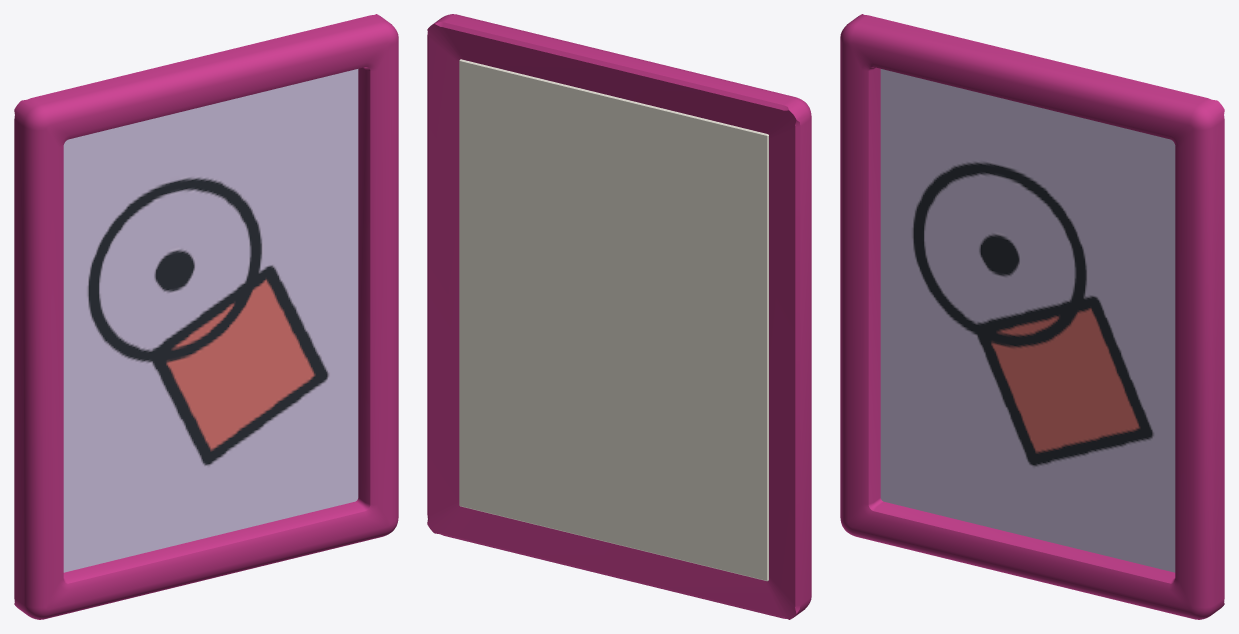
File: quadro_formas_contorno.glb
The picture shows the model from 3 angles, left to right: view 1: azimuth 30°, elevation 25°; view 2: azimuth 150°, elevation 25°; view 3: azimuth 330°, elevation 25°; orthographic projection.
Parts seen in each view (by area): view 1: quadro_formas_contorno; view 2: quadro_formas_contorno; view 3: quadro_formas_contorno.
Part boxes in pixels (<box>): quadro_formas_contorno: <box>14,14,398,619</box>; quadro_formas_contorno: <box>427,14,811,619</box>; quadro_formas_contorno: <box>840,14,1224,619</box>.
Size of the model in its own units: 0.444 by 0.584 by 0.04.
Materials: 2 (2 with a texture image).
